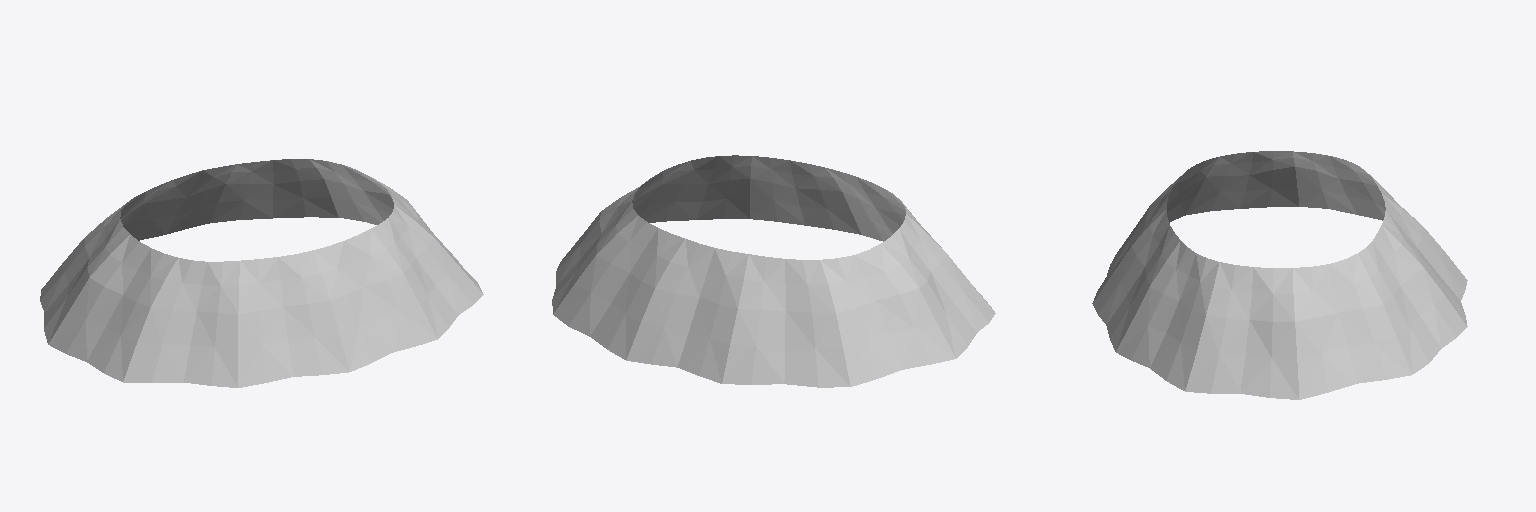
File: 12_peplumfull.obj
3 renders of one model, left to right at view 1: azimuth 30°, elevation 25°; view 2: azimuth 150°, elevation 25°; view 3: azimuth 270°, elevation 25°, orthographic.
Parts seen in each view (by area): view 1: peplumfront, peplumback; view 2: peplumback, peplumfront; view 3: peplumfront, peplumback.
Part boxes in pixels (left/top/right/bottom): peplumfront: left=48, top=177, right=483, bottom=387; peplumback: left=40, top=159, right=393, bottom=343; peplumback: left=552, top=186, right=955, bottom=387; peplumfront: left=632, top=155, right=995, bottom=358; peplumfront: left=1092, top=151, right=1298, bottom=399; peplumback: left=1293, top=151, right=1467, bottom=399.
Bounding box in the file's own units: 18.14 × 4.18 × 14.88.